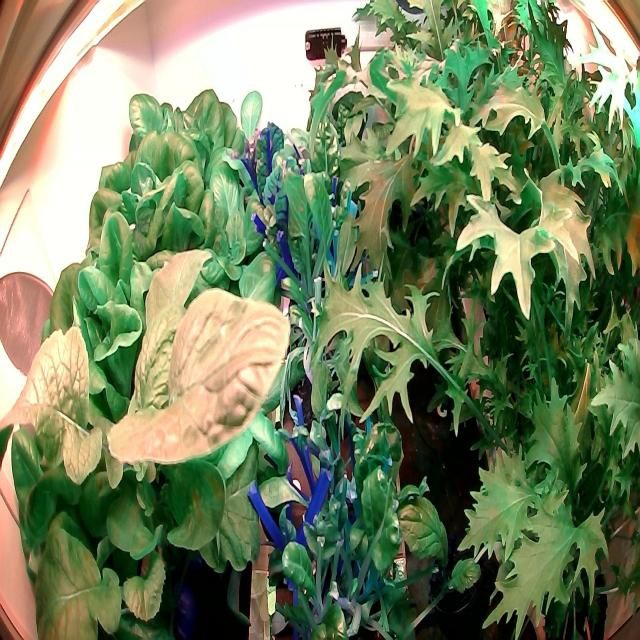Ready: (3, 324, 159, 636), (85, 67, 238, 296), (35, 209, 166, 461)
young: (186, 157, 280, 303), (218, 82, 286, 181)
